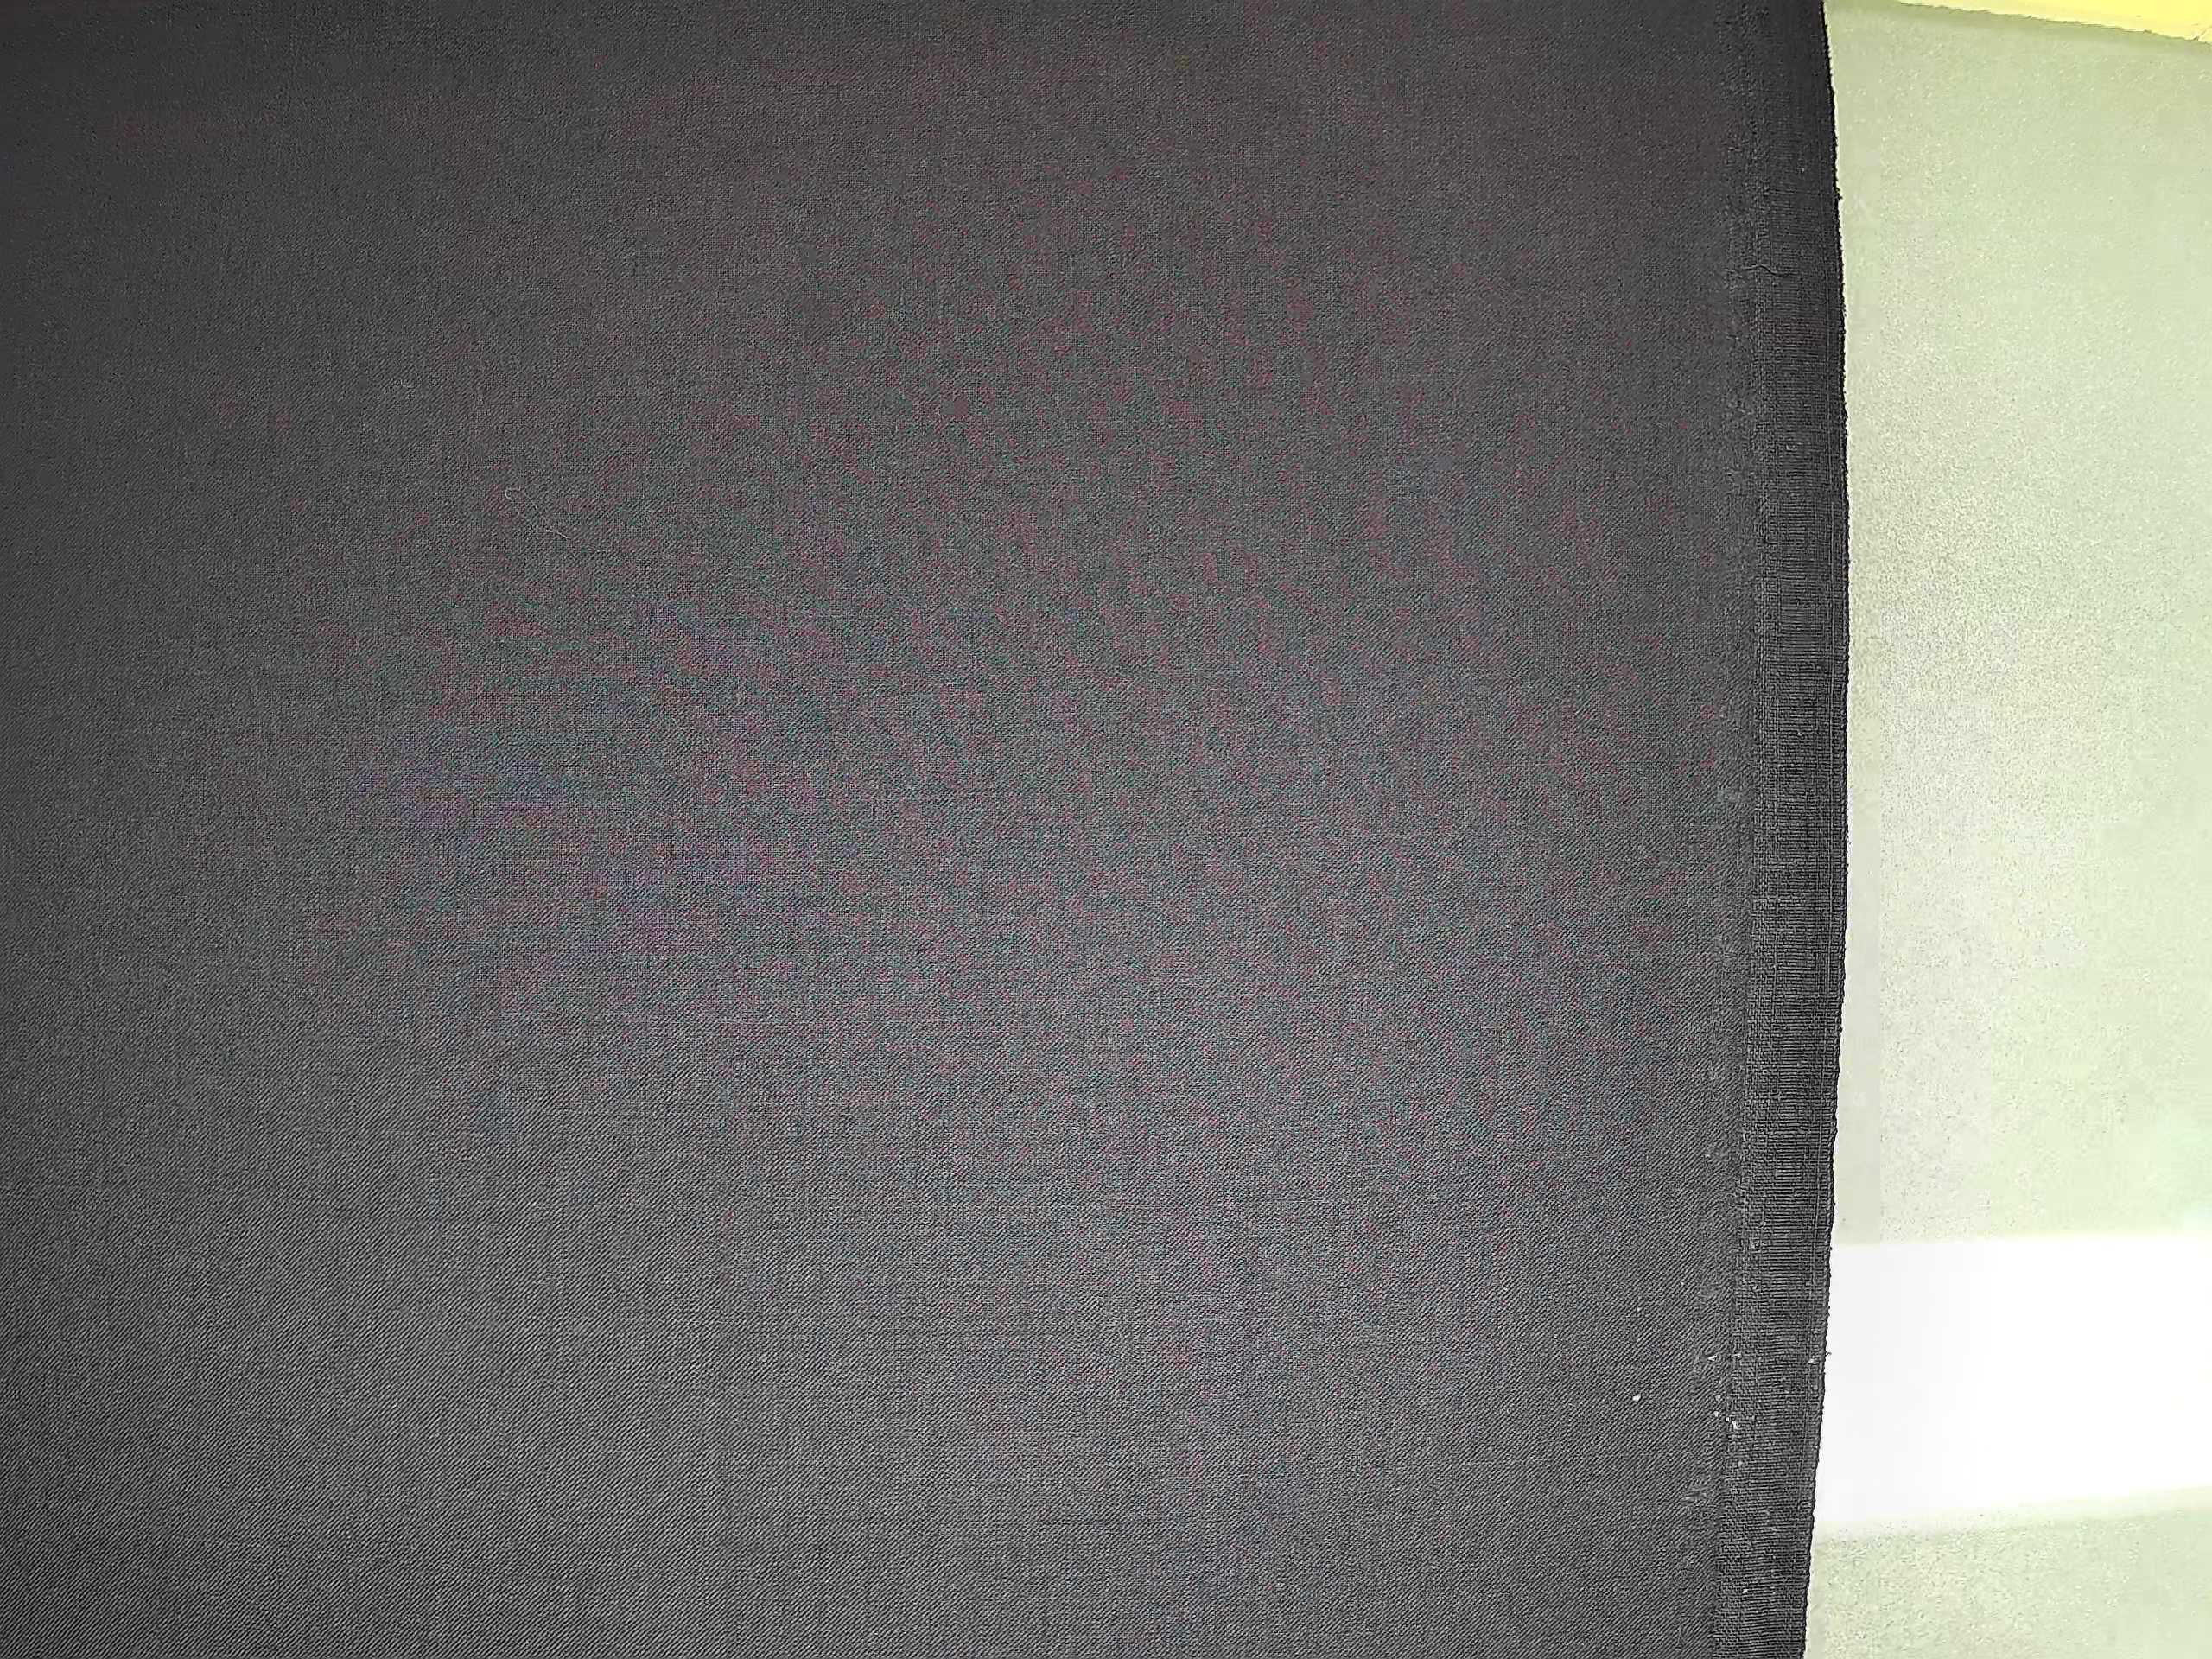puncture-hole: (1672, 5, 1791, 1635)
